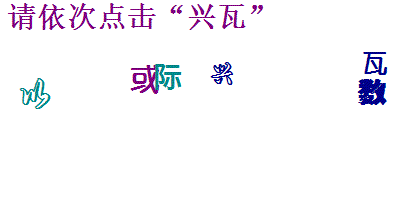result: (187, 1, 248, 31)
text: (17, 78, 51, 110), (356, 77, 390, 108), (128, 62, 160, 94), (152, 62, 183, 92), (359, 49, 389, 76), (208, 60, 237, 86)
